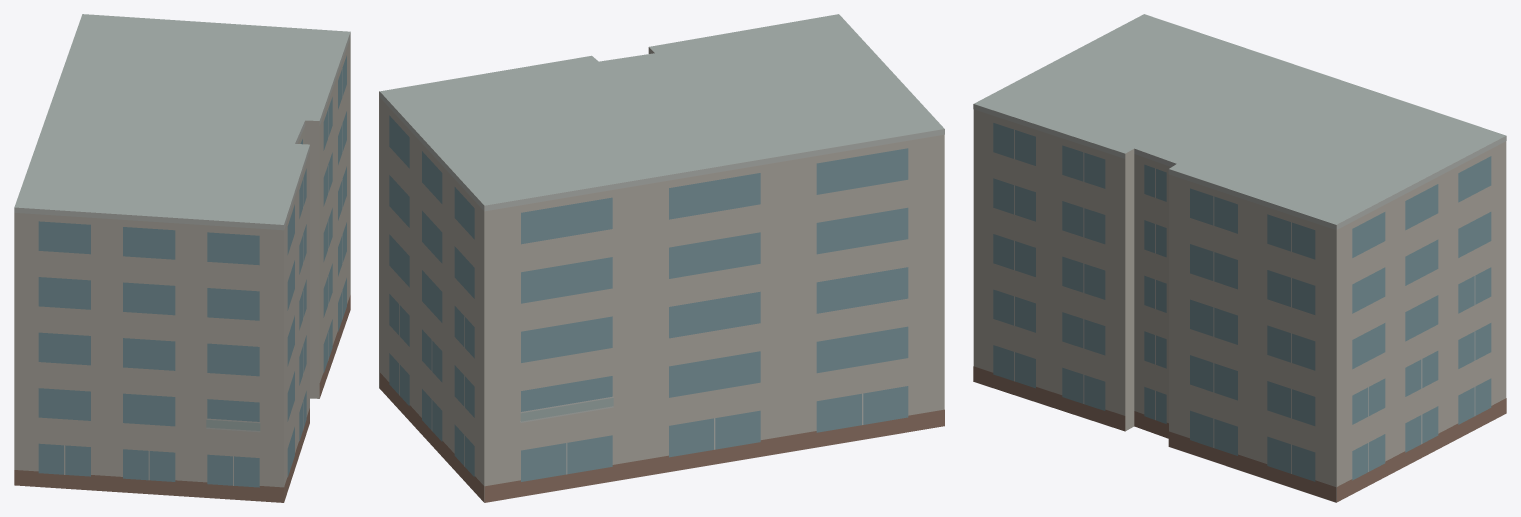
The model's file is survey-upis-32657190.glb.
The picture shows the model from 3 angles, left to right: view 1: azimuth 30°, elevation 25°; view 2: azimuth 150°, elevation 25°; view 3: azimuth 270°, elevation 25°; orthographic projection. The views are drawn at different scales.
Parts seen in each view (by area): view 1: survey-upis-32657190.tmp; view 2: survey-upis-32657190.tmp; view 3: survey-upis-32657190.tmp.
Boxes of the visible parts, <box> form: survey-upis-32657190.tmp: <box>14,14,350,502</box>; survey-upis-32657190.tmp: <box>379,14,944,502</box>; survey-upis-32657190.tmp: <box>973,14,1506,502</box>.
Bounding box in the file's own units: 20.87 × 12.8 × 22.27.
